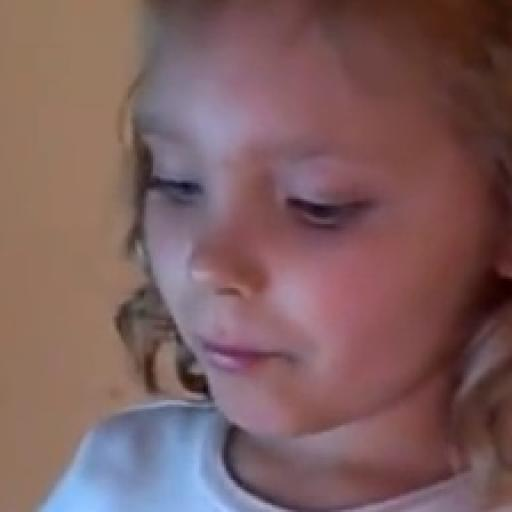Autism: (112, 9, 512, 480)
